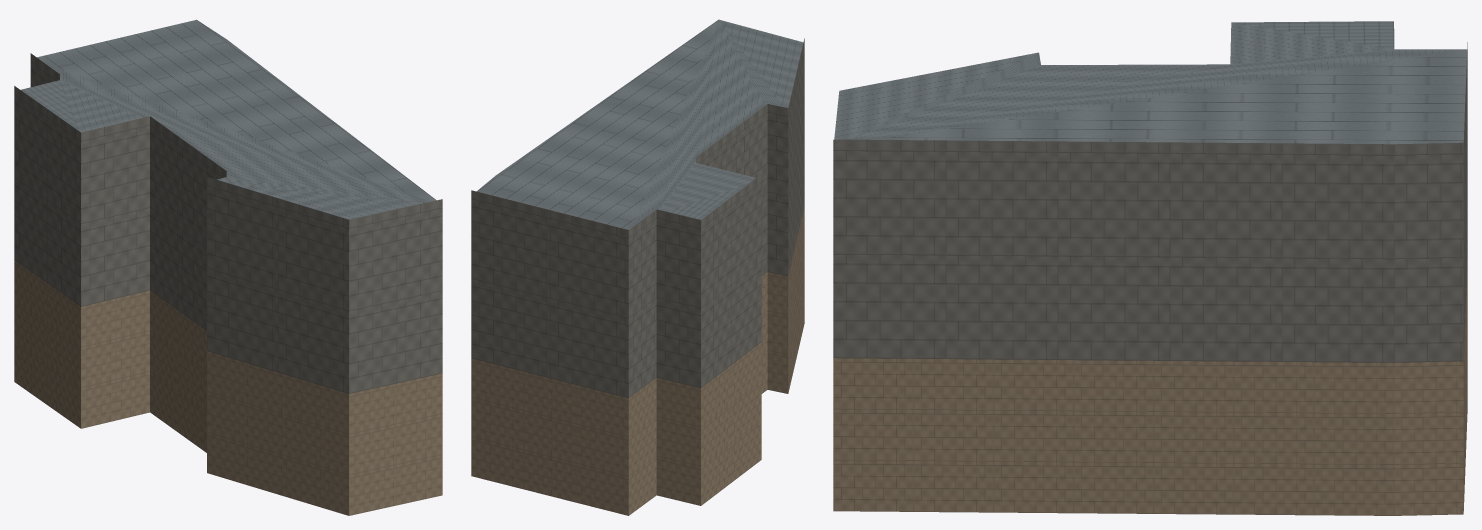
File: bld_c3_17_463.gltf
3 renders of one model, left to right at view 1: azimuth 30°, elevation 25°; view 2: azimuth 150°, elevation 25°; view 3: azimuth 270°, elevation 25°, orthographic. The views are drawn at different scales.
Parts seen in each view (by area): view 1: bld_c3_17_463; view 2: bld_c3_17_463; view 3: bld_c3_17_463.
Boxes of the visible parts, box(x1,y1,x2,y2) form: bld_c3_17_463: box(14, 19, 442, 515); bld_c3_17_463: box(471, 19, 804, 515); bld_c3_17_463: box(833, 21, 1467, 515).
Size of the model in its own units: 9.3 by 12.38 by 19.14.
4 materials, 4 textured.
